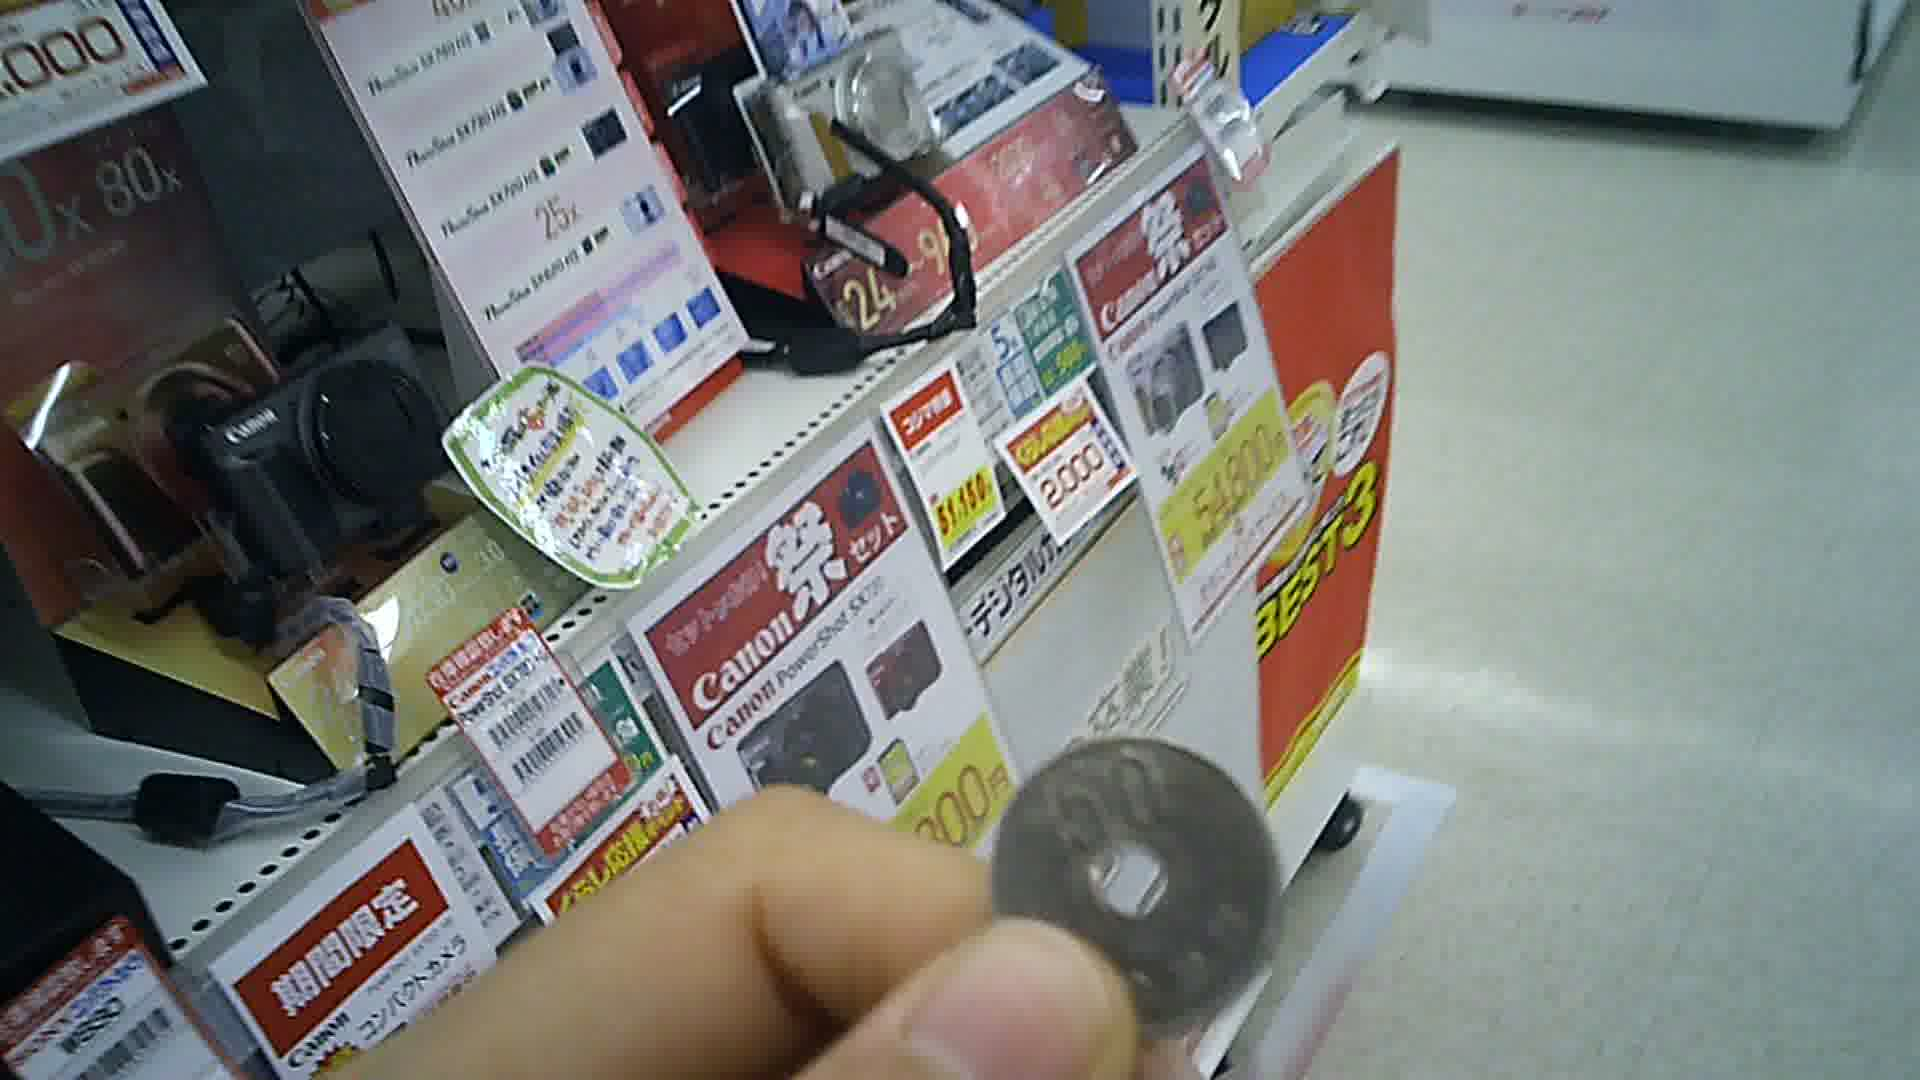50 Yen: (980, 729, 1290, 1039)
